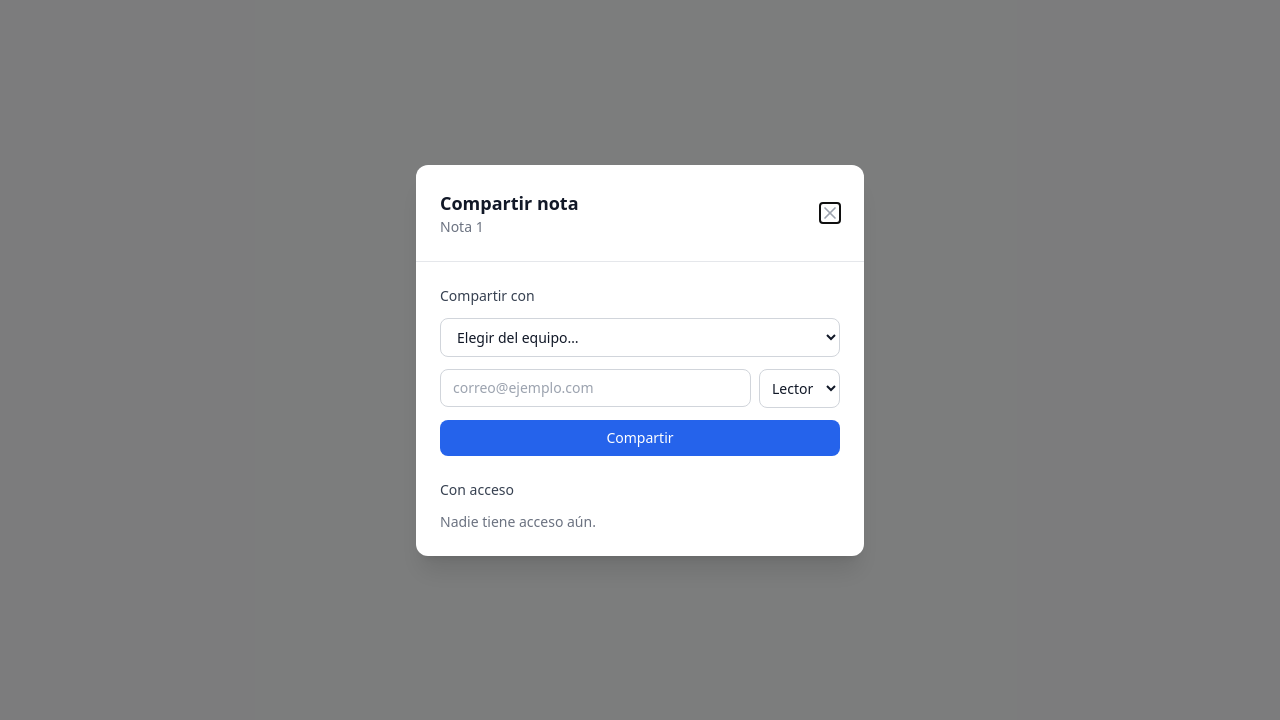
Test: ShareResourceModal › fills the email input when a teammate is selected
The width and height of the screenshot is (1280, 720).
Select "Cliente 109 (cliente109@cliente.com)" in the dropdown named "Elegir del equipo" at (640, 337), box [440,318,840,356]
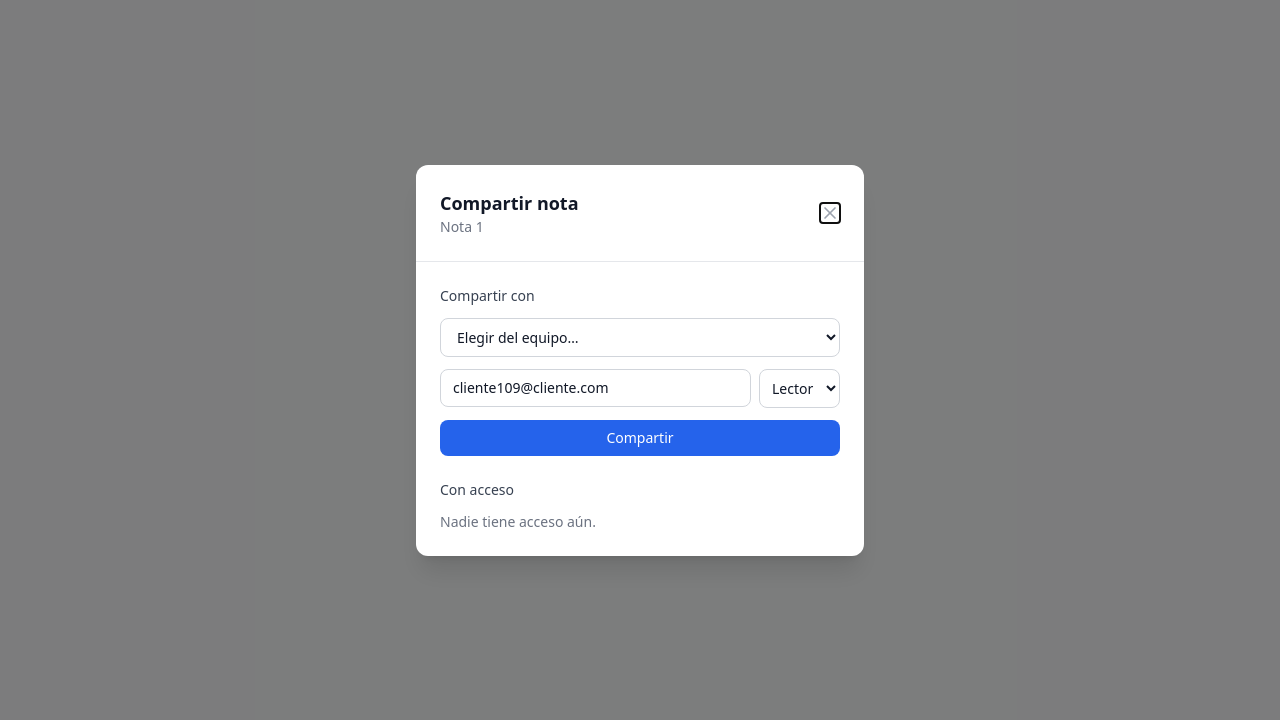
Check: the field with placeholder "correo@ejemplo.com" holds "cliente109@cliente.com", box [440,368,751,406]
